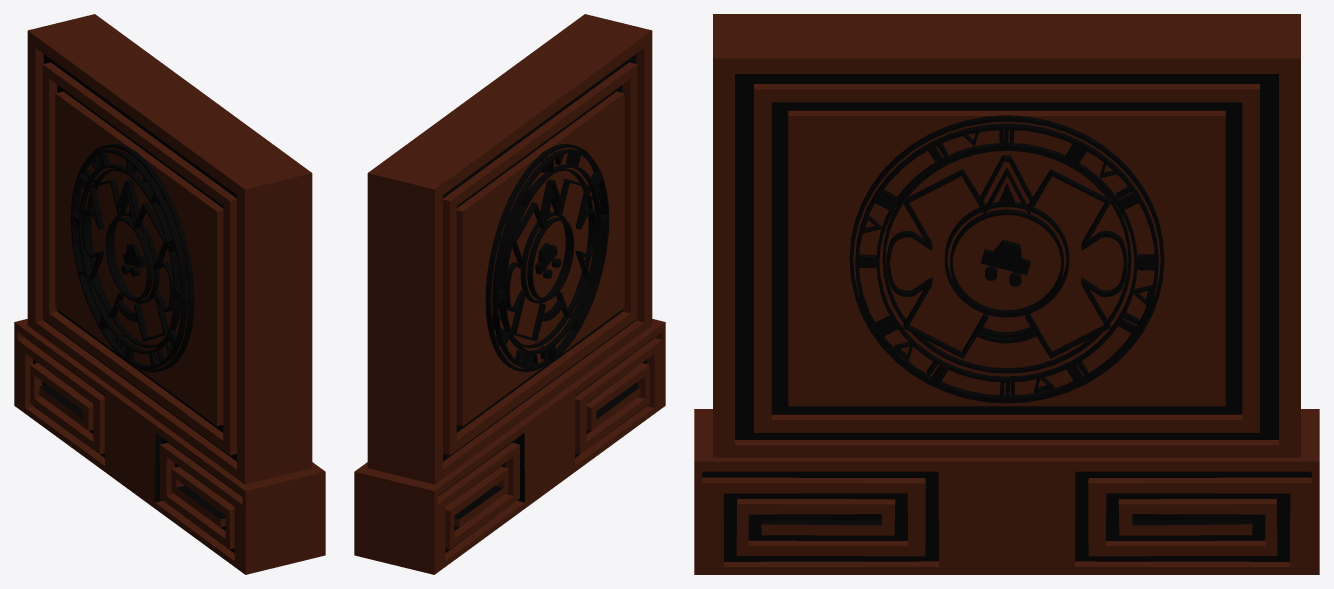
The model's file is Gate.fbx.
3 renders of one model, left to right at view 1: azimuth 30°, elevation 25°; view 2: azimuth 150°, elevation 25°; view 3: azimuth 270°, elevation 25°, orthographic. The views are drawn at different scales.
Parts seen in each view (by area): view 1: Cube; view 2: Cube; view 3: Cube.
Part boxes in pixels (x1,y1,x2,y2): Cube: (14,14,325,574); Cube: (354,14,665,574); Cube: (694,14,1319,574).
Size of the model in its own units: 2.16 by 9.04 by 10.
